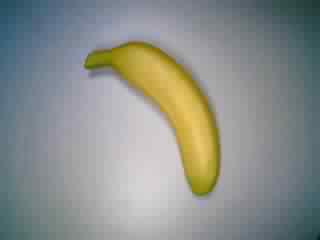banana: (81, 39, 226, 199)
